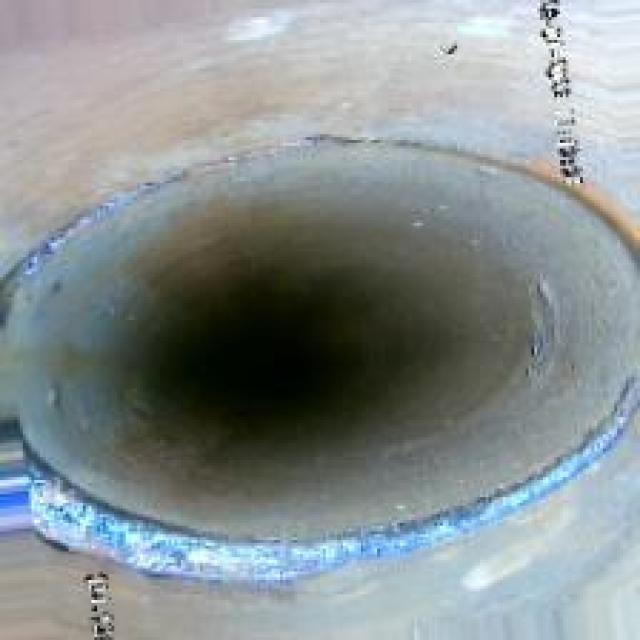joint: (3, 123, 637, 566)
